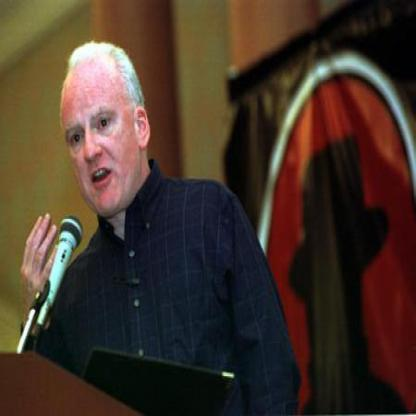face: (65, 44, 140, 220)
